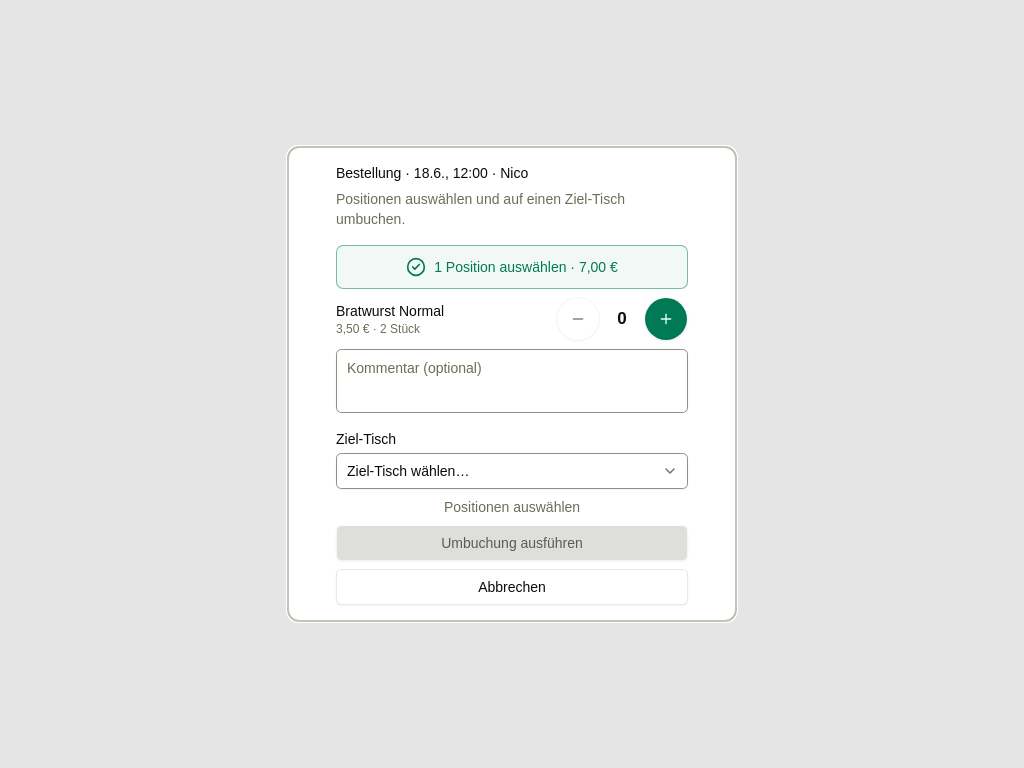
Test: HistorieUmbuchungDrawer › leert die Auswahl beim zweiten Tap auf „Alle auswählen"
The image size is (1024, 768).
Select "Nebentisch" in the dropdown at (512, 471), box 336,453 -> 688,489
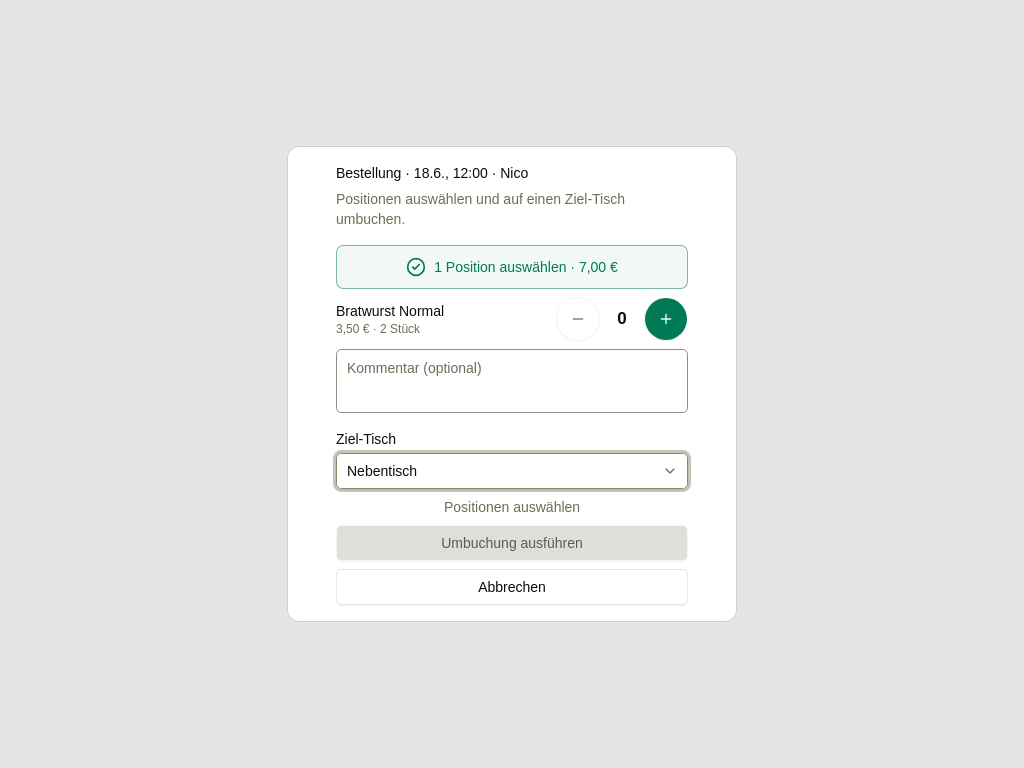
Click the button "1 Position auswählen · 7,00 €" at (512, 267), box 336,245 -> 688,289
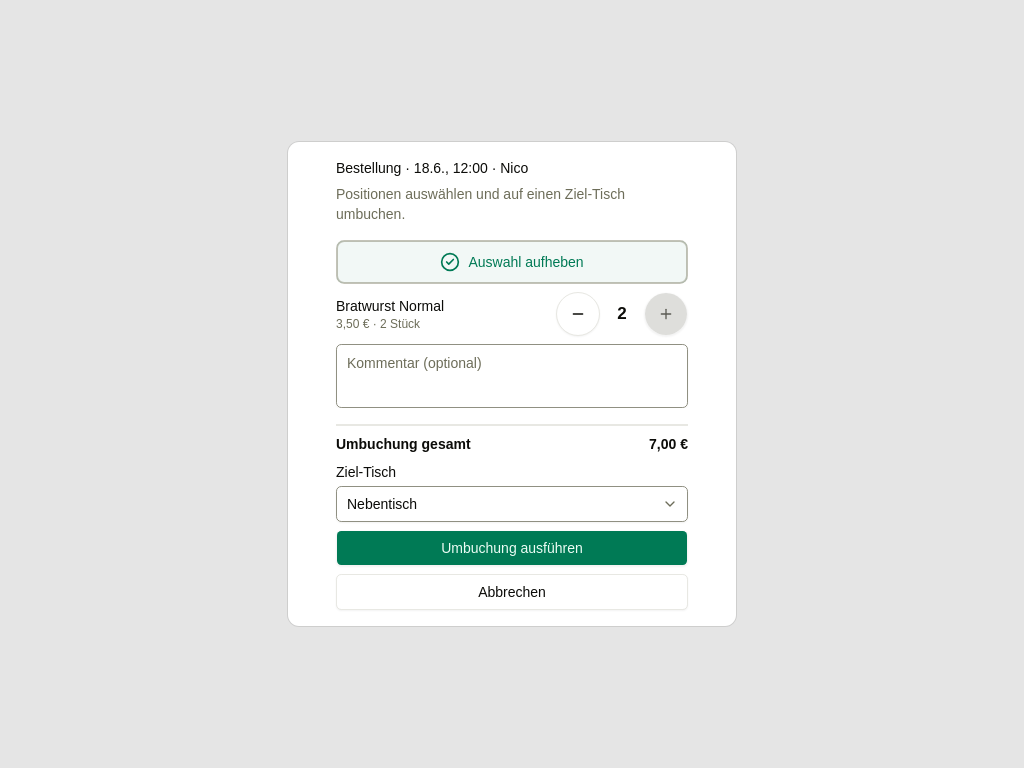
Result: the button "Umbuchung ausführen" is enabled at 336,530 -> 688,566
Click the button "Auswahl aufheben" at (512, 262), box 336,240 -> 688,284
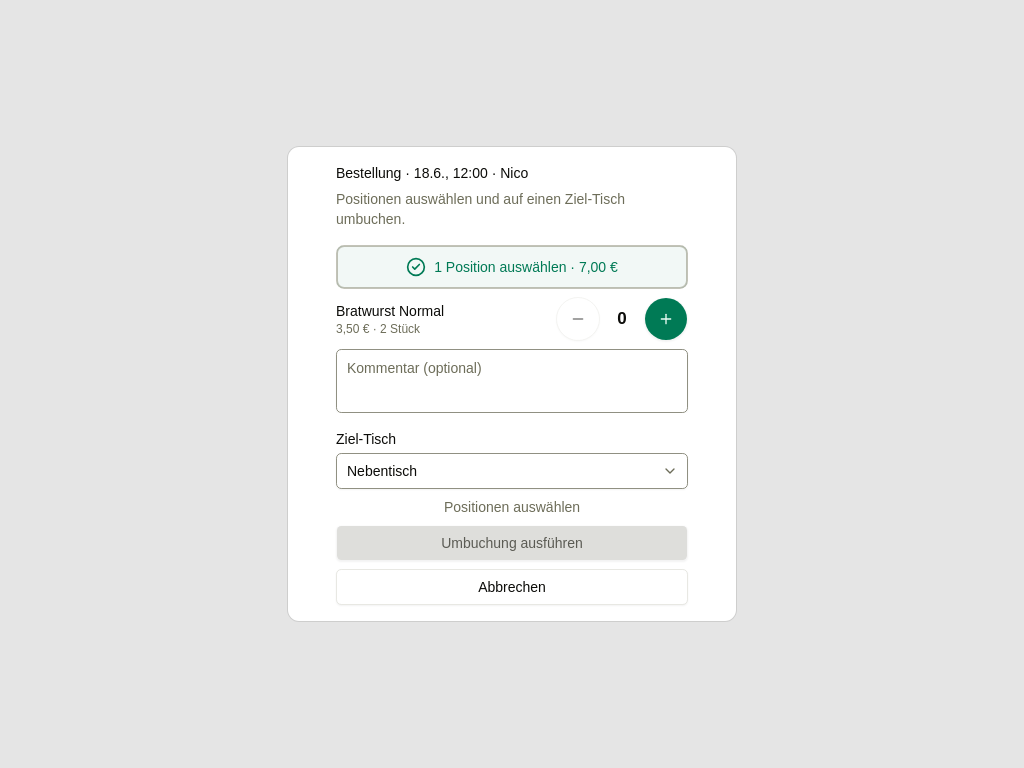
Result: the button "Umbuchung ausführen" is disabled at 336,525 -> 688,561
